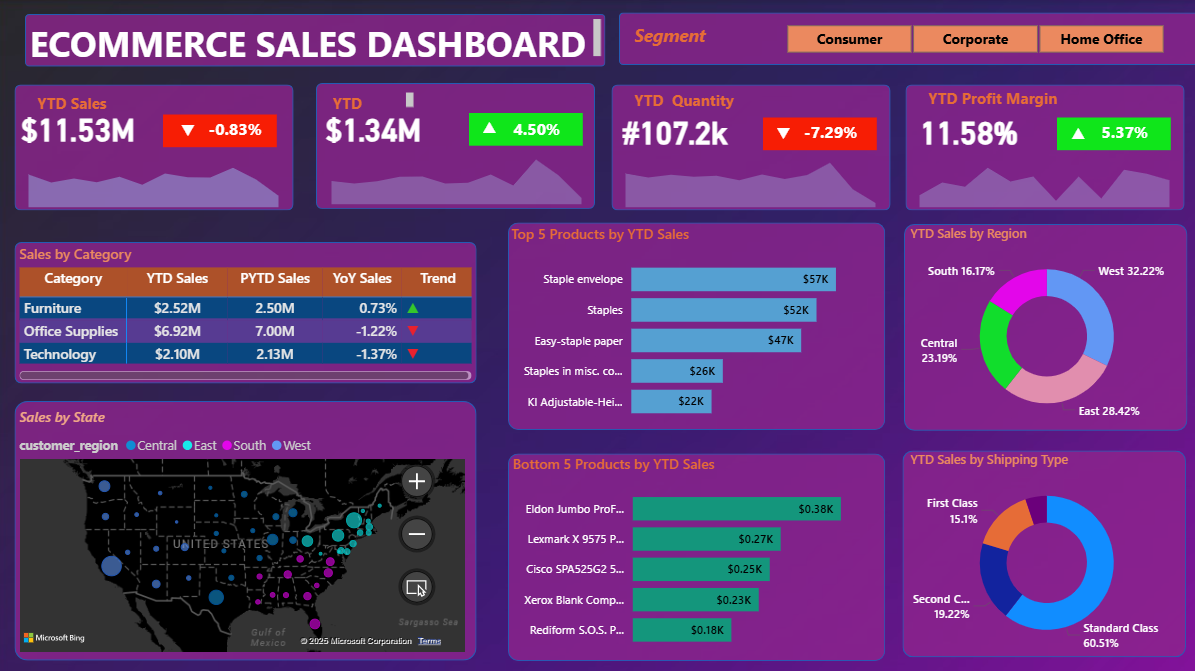

What the dashboard file says about the page in this screenshot:
{"tool":"powerbi","page":{"name":"Page 1","canvas":[1280,720],"ordinal":0},"visuals":[{"type":"shape","box":[35,15.9,615.6,55.7],"z":0},{"type":"shape","box":[23.9,90.7,295.9,133.6],"z":1000},{"type":"textbox","box":[35,15.9,615.6,54.1],"z":2000},{"type":"card","fields":{"Values":["ecommerce_data.YTD Sales"]},"box":[23.9,106.6,133.6,58.9],"z":3000},{"type":"shape","box":[181.3,122.5,120.9,35],"z":4000},{"type":"areaChart","fields":{"Category":["Calendar.Month"],"Y":["Sum(ecommerce_data.sales_per_order)"]},"box":[23.9,157.5,294.3,68.4],"z":5000},{"type":"card","fields":{"Values":["ecommerce_data.Sales Icon"]},"box":[181.3,122.5,52.5,35],"z":6000},{"type":"card","fields":{"Values":["ecommerce_data.YoY Sales"]},"box":[208.4,122.5,98.6,33.4],"z":7000},{"type":"textbox","box":[42.9,93.8,95.4,31.8],"z":8000},{"type":"shape","box":[343.6,89.1,295.9,133.6],"z":9000},{"type":"card","fields":{"Values":["ecommerce_data.YTD Profit"]},"box":[337.1,107,133.6,58.9],"z":10000},{"type":"shape","box":[505.8,120.9,120.9,35],"z":11000},{"type":"areaChart","fields":{"Category":["Calendar.Month"],"Y":["Sum(ecommerce_data.profit_per_order)"]},"box":[345.2,154.3,294.3,68.4],"z":12000},{"type":"card","fields":{"Values":["ecommerce_data.Proft Icon"]},"box":[505.8,119.3,42.9,35],"z":13000},{"type":"card","fields":{"Values":["ecommerce_data.YoY Proft"]},"box":[528.1,122.5,98.6,33.4],"z":14000},{"type":"textbox","box":[356.2,94.3,95.4,31.8],"z":15000},{"type":"textbox","box":[672.2,78.4,95.4,31.8],"z":16000},{"type":"shape","box":[656.9,90.7,295.9,133.6],"z":17000},{"type":"card","fields":{"Values":["ecommerce_data.YTD Concatinated Qty"]},"box":[656.9,109.8,133.6,58.9],"z":18000},{"type":"shape","box":[817.6,125.7,120.9,35],"z":19000},{"type":"areaChart","fields":{"Category":["Calendar.Month"],"Y":["Sum(ecommerce_data.order_quantity)"]},"box":[656.9,157.5,294.3,68.4],"z":20000},{"type":"card","fields":{"Values":["ecommerce_data.Qty Icon"]},"box":[812.8,125.7,52.5,35],"z":21000},{"type":"card","fields":{"Values":["ecommerce_data.YoY Qty"]},"box":[839.8,125.7,98.6,33.4],"z":22000},{"type":"textbox","box":[676,90.7,141.6,31.8],"z":23000},{"type":"textbox","box":[983.4,78.9,95.4,31.8],"z":24000},{"type":"shape","box":[968.1,91.1,295.9,133.6],"z":25000},{"type":"card","fields":{"Values":["ecommerce_data.YTD Profit Margin"]},"box":[968.1,110.2,133.6,58.9],"z":26000},{"type":"shape","box":[1128.7,126.1,120.9,35],"z":27000},{"type":"areaChart","fields":{"Category":["Calendar.Month"],"Y":["ecommerce_data.Profit Margin"]},"box":[968.1,157.9,294.3,68.4],"z":28000},{"type":"card","fields":{"Values":["ecommerce_data.Profit Margin Icon"]},"box":[1129.3,125.7,44.5,35],"z":29000},{"type":"card","fields":{"Values":["ecommerce_data.YoY Profit Margin"]},"box":[1151,126.1,98.6,33.4],"z":30000},{"type":"textbox","box":[987.8,89.1,163.8,33.4],"z":31000},{"type":"shape","box":[23.9,257.7,490,150],"z":32000},{"type":"pivotTable","title":"Sales by Category","fields":{"Rows":["ecommerce_data.category_name"],"Values":["ecommerce_data.YTD Sales","ecommerce_data.PYTD Sales","ecommerce_data.YoY Sales","ecommerce_data.Sales Icon"]},"box":[23.9,259.3,489.9,149.5],"z":33000},{"type":"shape","box":[23.9,426.3,489.9,275.2],"z":34000},{"type":"map","title":" Sales by State","fields":{"Y":["us_state_long_lat_codes.latitude"],"X":["us_state_long_lat_codes.longitude"],"Series":["ecommerce_data.customer_region"],"Size":["ecommerce_data.YTD Sales"]},"box":[23.9,432.6,482,264],"z":35000},{"type":"shape","box":[547.2,237,400,220],"z":36000},{"type":"shape","box":[547.2,482,400,220],"z":37000},{"type":"barChart","title":"Top 5 Products by YTD Sales","fields":{"Category":["ecommerce_data.product_name"],"Y":["ecommerce_data.YTD Sales"]},"box":[546.1,238.1,398.7,219.2],"z":38000},{"type":"barChart","title":"Bottom 5 Products by YTD Sales","fields":{"Category":["ecommerce_data.product_name"],"Y":["ecommerce_data.YTD Sales"]},"box":[547.2,482,397.7,217.9],"z":39000},{"type":"shape","box":[967.6,238.1,300.5,219.2],"z":39001},{"type":"shape","box":[965.7,478.1,300.5,219.2],"z":39002},{"type":"donutChart","title":"YTD Sales by Region","fields":{"Category":["ecommerce_data.customer_region"],"Y":["ecommerce_data.YTD Sales"]},"box":[968.7,238.6,299,219.5],"z":39003},{"type":"donutChart","title":"YTD Sales by Shipping Type","fields":{"Y":["ecommerce_data.YTD Sales"],"Category":["ecommerce_data.shipping_type"]},"box":[968.7,478.8,299,219.5],"z":39004},{"type":"shape","box":[664.9,14.3,615.6,55.7],"z":39005},{"type":"slicer","fields":{"Values":["ecommerce_data.customer_segment"]},"box":[817.6,20.7,448.6,42.9],"z":39006},{"type":"textbox","box":[676,20.7,141.6,42.9],"z":39007}]}

Visuals, with their boxes in screenshot pixels (x1, y1, x2, y2), scaled from the page's 1280x720 canvas onto the 1195x671 screenshot:
shape: x1=33, y1=15, x2=607, y2=67
shape: x1=22, y1=85, x2=299, y2=209
textbox: x1=33, y1=15, x2=607, y2=65
card - ecommerce_data.YTD Sales: x1=22, y1=99, x2=147, y2=154
shape: x1=169, y1=114, x2=282, y2=147
areaChart - Calendar.Month x Sum(ecommerce_data.sales_per_order): x1=22, y1=147, x2=297, y2=211
card - ecommerce_data.Sales Icon: x1=169, y1=114, x2=218, y2=147
card - ecommerce_data.YoY Sales: x1=195, y1=114, x2=287, y2=145
textbox: x1=40, y1=87, x2=129, y2=117
shape: x1=321, y1=83, x2=597, y2=208
card - ecommerce_data.YTD Profit: x1=315, y1=100, x2=439, y2=155
shape: x1=472, y1=113, x2=585, y2=145
areaChart - Calendar.Month x Sum(ecommerce_data.profit_per_order): x1=322, y1=144, x2=597, y2=208
card - ecommerce_data.Proft Icon: x1=472, y1=111, x2=512, y2=144
card - ecommerce_data.YoY Proft: x1=493, y1=114, x2=585, y2=145
textbox: x1=333, y1=88, x2=422, y2=118
textbox: x1=628, y1=73, x2=717, y2=103
shape: x1=613, y1=85, x2=890, y2=209
card - ecommerce_data.YTD Concatinated Qty: x1=613, y1=102, x2=738, y2=157
shape: x1=763, y1=117, x2=876, y2=150
areaChart - Calendar.Month x Sum(ecommerce_data.order_quantity): x1=613, y1=147, x2=888, y2=211
card - ecommerce_data.Qty Icon: x1=759, y1=117, x2=808, y2=150
card - ecommerce_data.YoY Qty: x1=784, y1=117, x2=876, y2=148
textbox: x1=631, y1=85, x2=763, y2=114
textbox: x1=918, y1=74, x2=1007, y2=103
shape: x1=904, y1=85, x2=1180, y2=209
card - ecommerce_data.YTD Profit Margin: x1=904, y1=103, x2=1029, y2=158
shape: x1=1054, y1=118, x2=1167, y2=150
areaChart - Calendar.Month x ecommerce_data.Profit Margin: x1=904, y1=147, x2=1179, y2=211
card - ecommerce_data.Profit Margin Icon: x1=1054, y1=117, x2=1096, y2=150
card - ecommerce_data.YoY Profit Margin: x1=1075, y1=118, x2=1167, y2=149
textbox: x1=922, y1=83, x2=1075, y2=114
shape: x1=22, y1=240, x2=480, y2=380
"Sales by Category" pivotTable: x1=22, y1=242, x2=480, y2=381
shape: x1=22, y1=397, x2=480, y2=654
" Sales by State" map: x1=22, y1=403, x2=472, y2=649
shape: x1=511, y1=221, x2=884, y2=426
shape: x1=511, y1=449, x2=884, y2=654
"Top 5 Products by YTD Sales" barChart: x1=510, y1=222, x2=882, y2=426
"Bottom 5 Products by YTD Sales" barChart: x1=511, y1=449, x2=882, y2=652
shape: x1=903, y1=222, x2=1184, y2=426
shape: x1=902, y1=446, x2=1182, y2=650
"YTD Sales by Region" donutChart: x1=904, y1=222, x2=1184, y2=427
"YTD Sales by Shipping Type" donutChart: x1=904, y1=446, x2=1184, y2=651
shape: x1=621, y1=13, x2=1194, y2=65
slicer - ecommerce_data.customer_segment: x1=763, y1=19, x2=1182, y2=59
textbox: x1=631, y1=19, x2=763, y2=59
